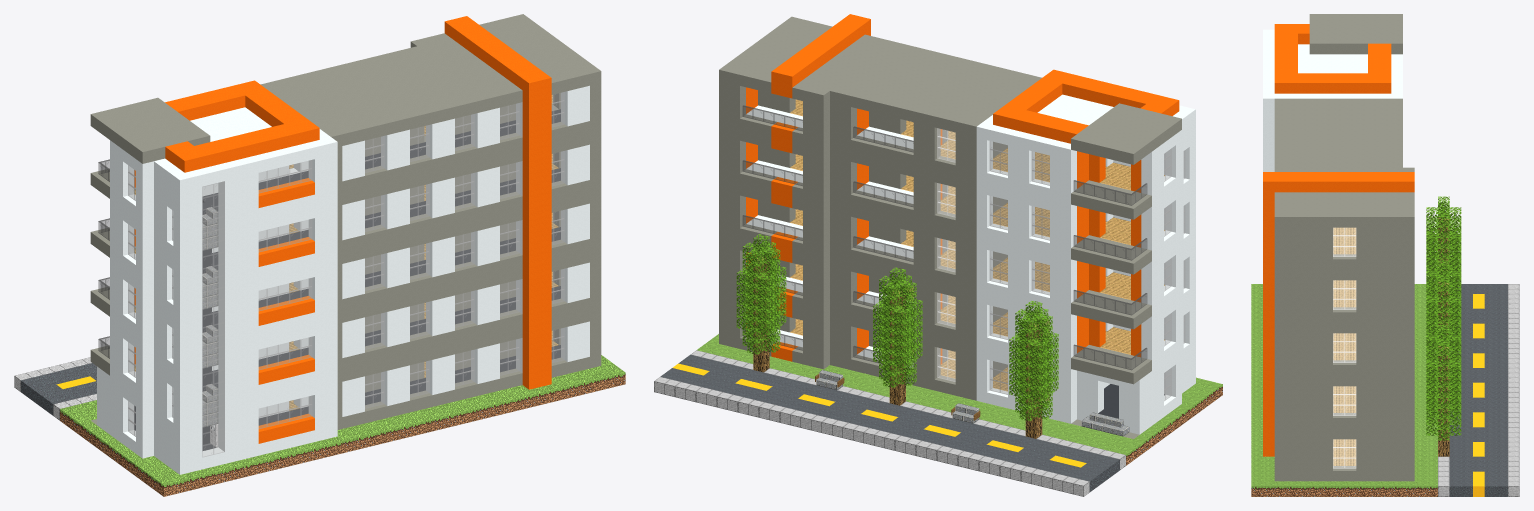
File: apartment.glb
The picture shows the model from 3 angles, left to right: view 1: azimuth 30°, elevation 25°; view 2: azimuth 150°, elevation 25°; view 3: azimuth 270°, elevation 25°; orthographic projection. The views are drawn at different scales.
Bounding box in the file's own units: 1.52 × 1 × 0.8519.
15 materials, 15 textured.
